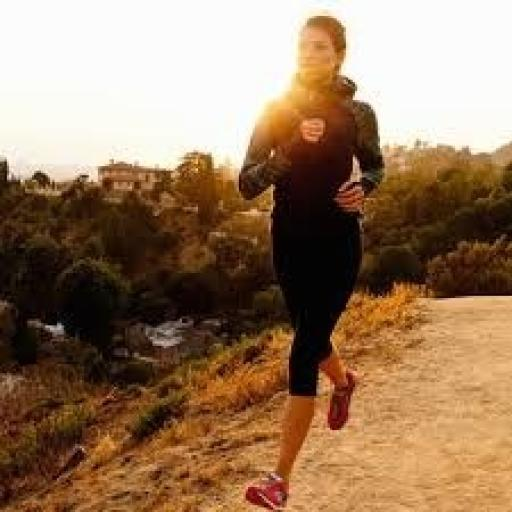running: (235, 11, 389, 510)
